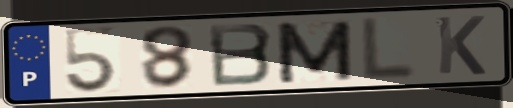5: (61, 24, 124, 96)
8: (138, 24, 197, 91)
B: (205, 21, 276, 89)
K: (433, 14, 489, 77)
L: (358, 14, 419, 83)
M: (272, 18, 357, 86)
